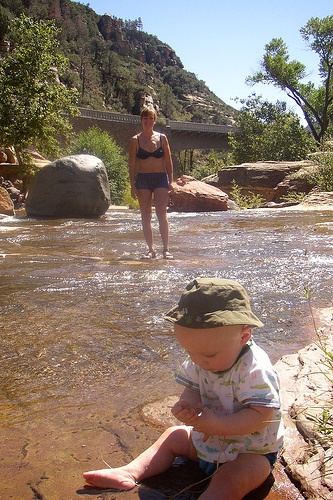head: (161, 271, 258, 378), (141, 108, 157, 129)
person: (71, 268, 284, 500), (123, 104, 180, 261)
